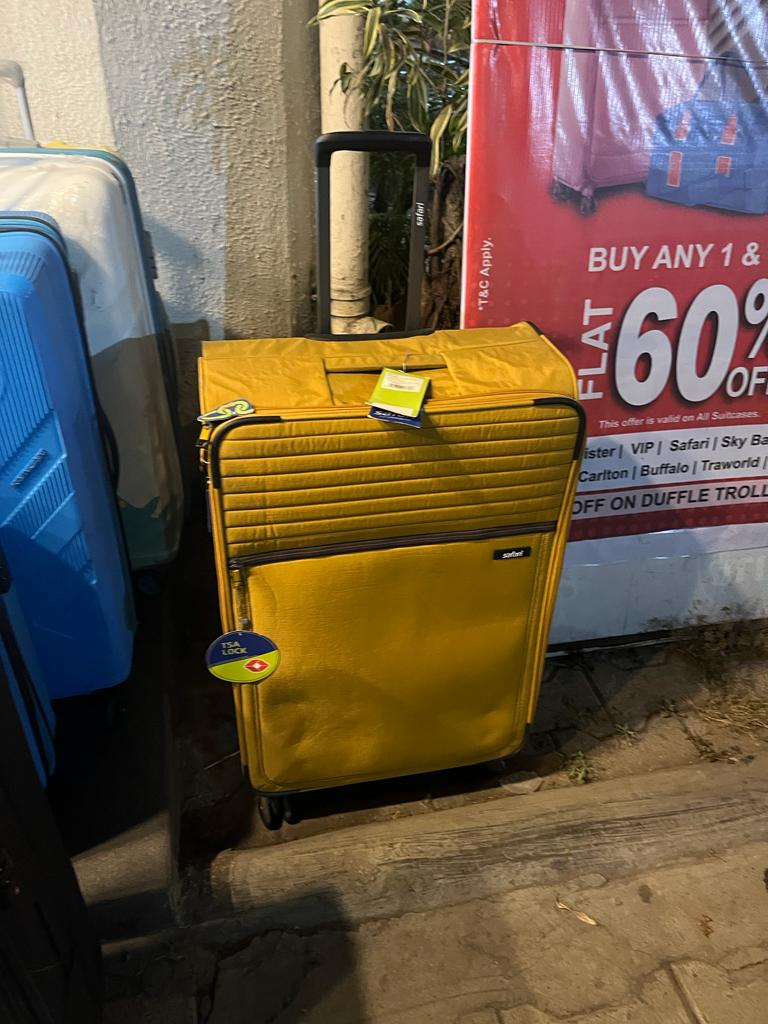Bag: (194, 125, 585, 845), (1, 128, 179, 755)
Handle: (296, 118, 461, 342)
